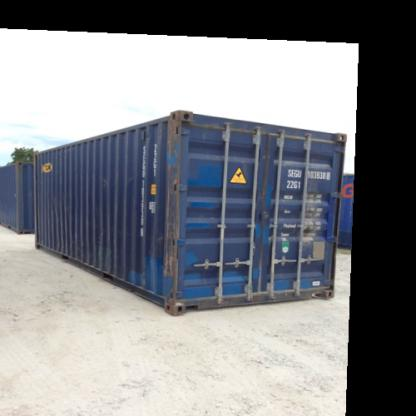Damage: (163, 118, 182, 276), (300, 183, 326, 236), (110, 252, 150, 280), (46, 204, 73, 238), (124, 159, 157, 185), (78, 234, 106, 254), (95, 174, 114, 193)
